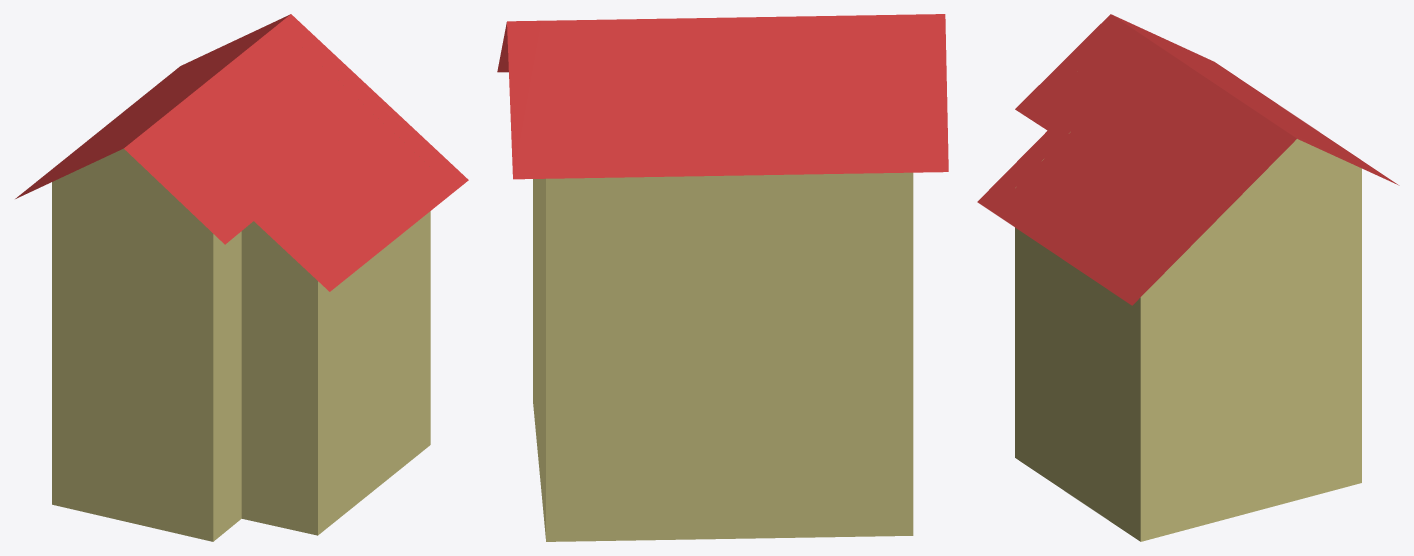
3 renders of one model, left to right at view 1: azimuth 30°, elevation 25°; view 2: azimuth 150°, elevation 25°; view 3: azimuth 270°, elevation 25°, orthographic. The views are drawn at different scales.
Size of the model in its own units: 8.41 by 7.69 by 7.53.
